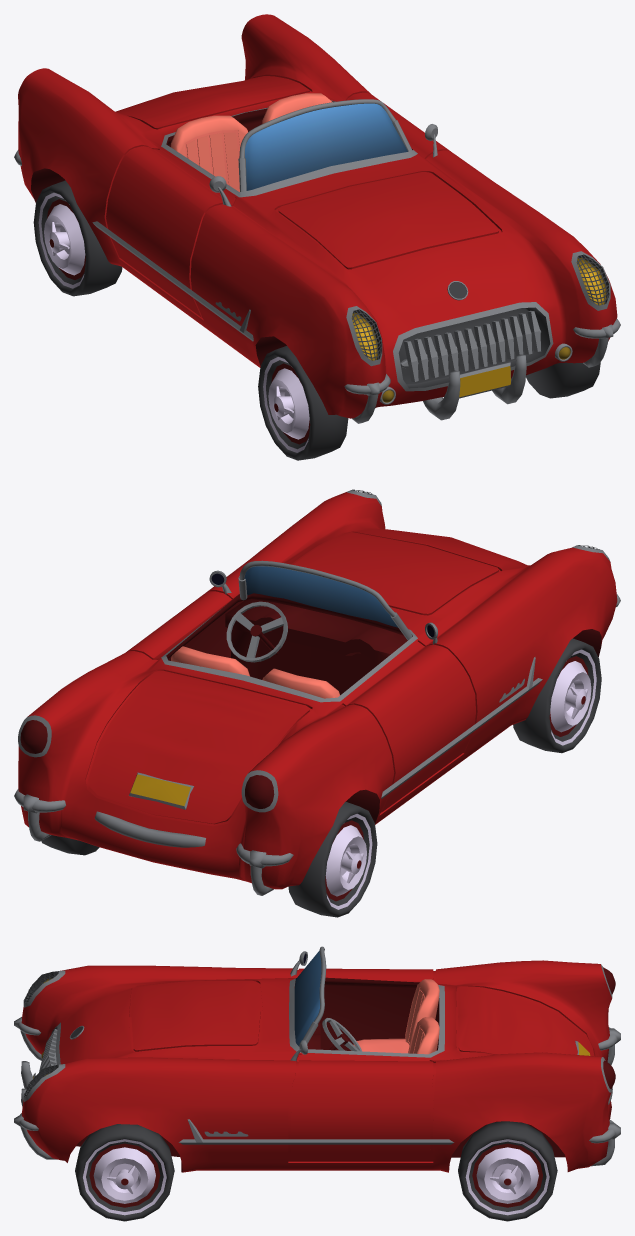
The model's file is Car_10.fbx.
The picture shows the model from 3 angles, top to bottom: view 1: azimuth 30°, elevation 25°; view 2: azimuth 150°, elevation 25°; view 3: azimuth 270°, elevation 25°; orthographic projection. The views are drawn at different scales.
Visible parts, largest first — view 1: 19_Car_BaseBıody, 10_Car_Glass, 10_Car_FrontRight, 10_Car_BackRight, 10_Car_FrontLeft; view 2: 19_Car_BaseBıody, 10_Car_BackRight, 10_Car_FrontRight, 10_Car_Glass, 10_Car_BackLeft; view 3: 19_Car_BaseBıody, 10_Car_BackLeft, 10_Car_FrontLeft, 10_Car_Glass.
Boxes of the visible parts, x1,y1,x2,y2 form: 19_Car_BaseBıody: (14,14,620,423); 10_Car_Glass: (245,103,407,190); 10_Car_FrontRight: (258,346,348,460); 10_Car_BackRight: (33,180,122,296); 10_Car_FrontLeft: (526,362,600,398); 19_Car_BaseBıody: (14,489,620,895); 10_Car_BackRight: (288,801,377,917); 10_Car_FrontRight: (513,638,601,753); 10_Car_Glass: (244,566,397,627); 10_Car_BackLeft: (41,835,99,855); 19_Car_BaseBıody: (14,946,620,1172); 10_Car_BackLeft: (458,1121,557,1221); 10_Car_FrontLeft: (75,1124,174,1221); 10_Car_Glass: (294,950,321,1046).
Bounding box in the file's own units: 313 × 226 × 628.
